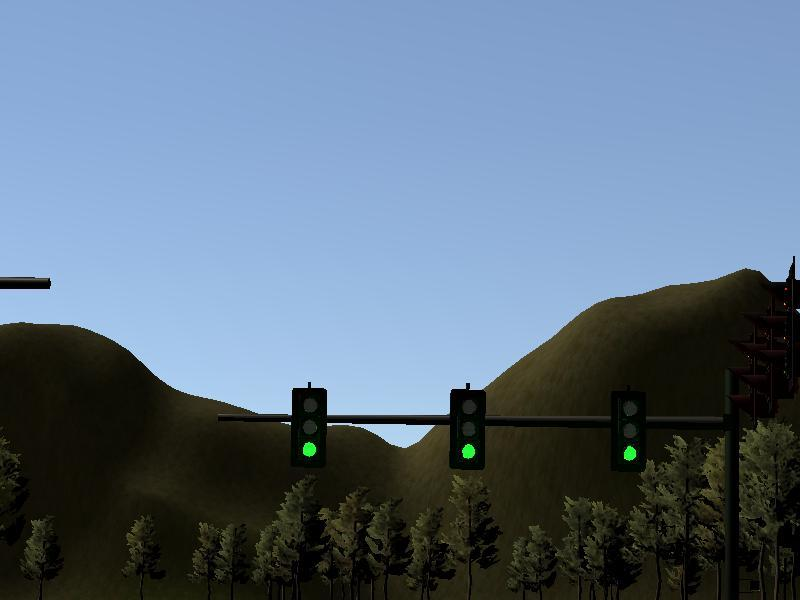Green: (293, 388, 327, 467), (615, 387, 646, 467), (452, 391, 483, 468)
